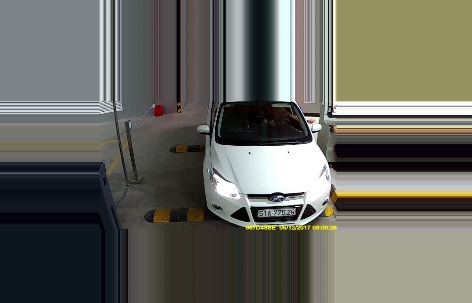plate: (257, 206, 298, 218)
